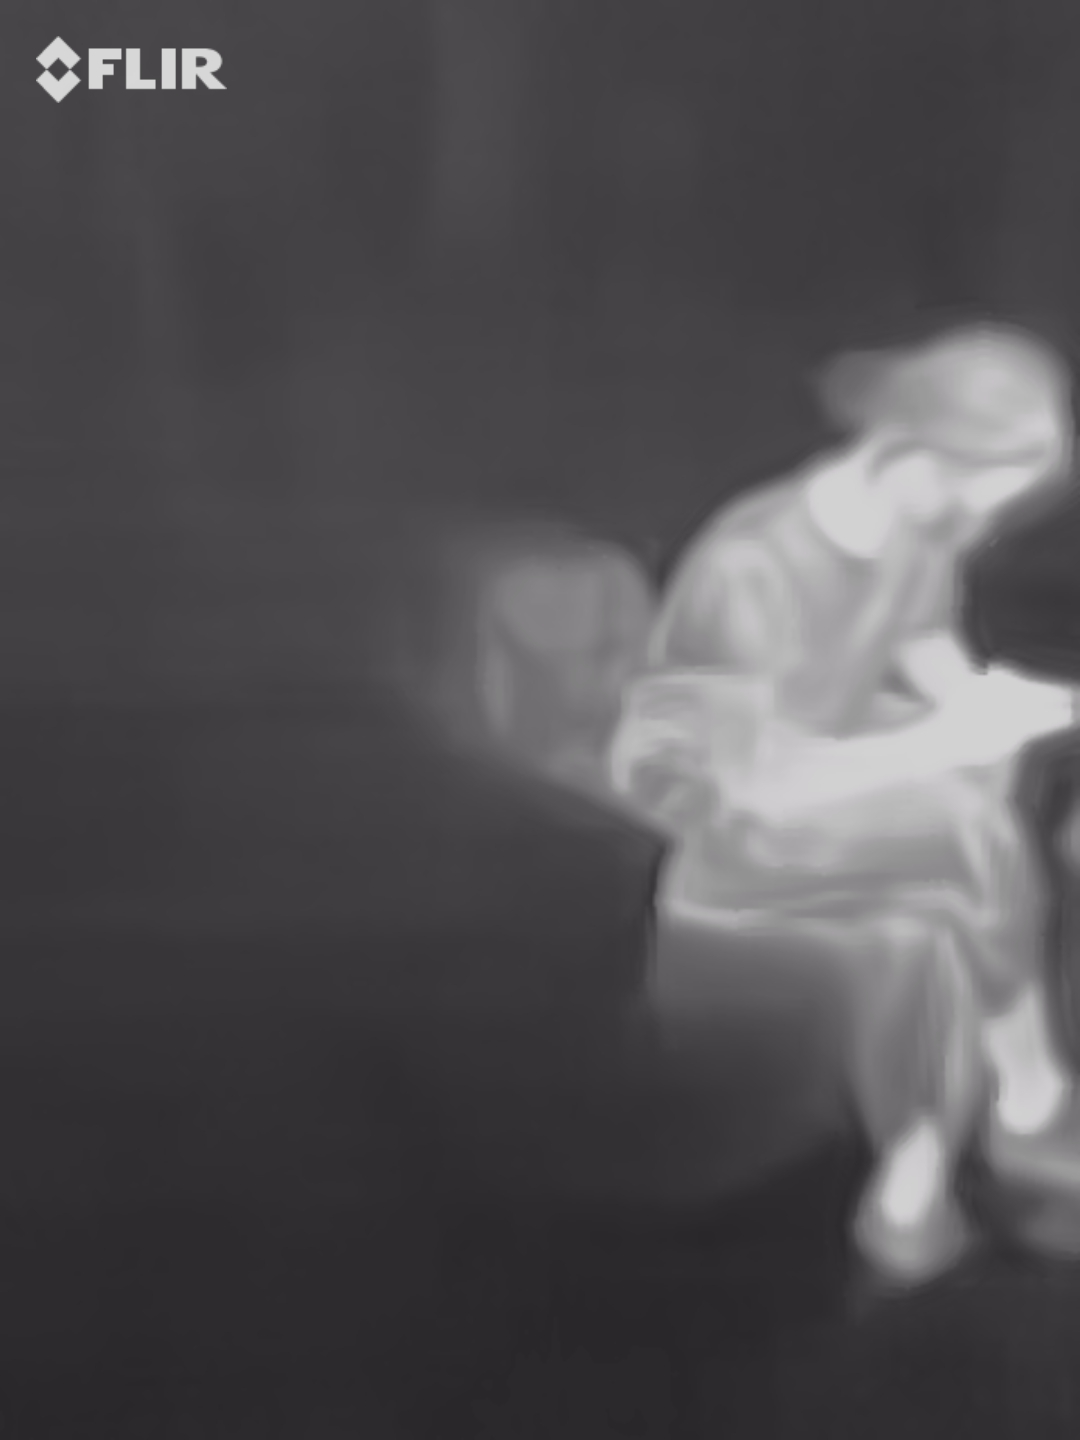head: (809, 316, 1071, 569)
